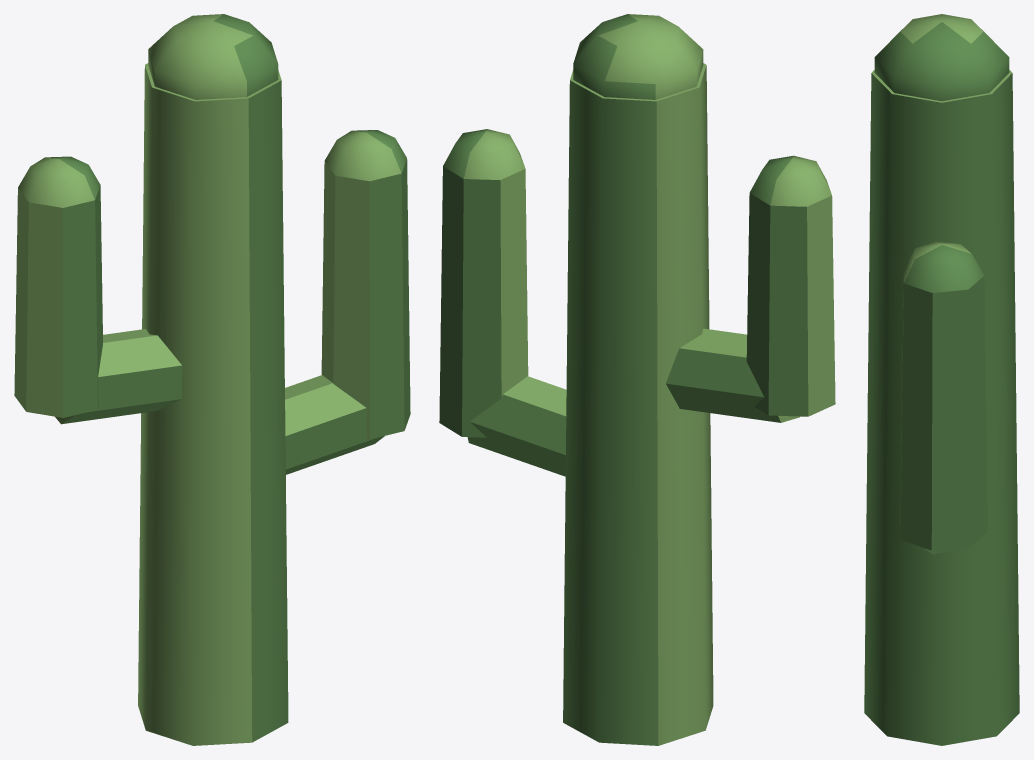
Rendered from Cactus_A.fbx.
The picture shows the model from 3 angles, left to right: view 1: azimuth 30°, elevation 25°; view 2: azimuth 150°, elevation 25°; view 3: azimuth 270°, elevation 25°; orthographic projection.
Visible parts, largest first — view 1: Cactus_A; view 2: Cactus_A; view 3: Cactus_A.
Boxes of the visible parts, box(x1,y1,x2,y2) form: Cactus_A: box(14, 14, 410, 745); Cactus_A: box(439, 14, 835, 745); Cactus_A: box(864, 14, 1019, 745).
Size of the model in its own units: 1.25 by 2.16 by 0.44.
